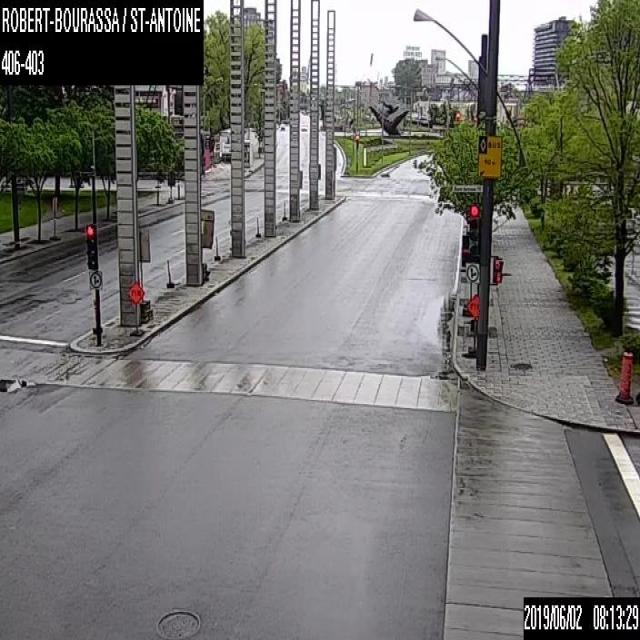construction: (137, 226, 152, 321), (200, 207, 214, 278), (465, 292, 480, 357), (616, 350, 634, 402), (126, 280, 144, 304)
